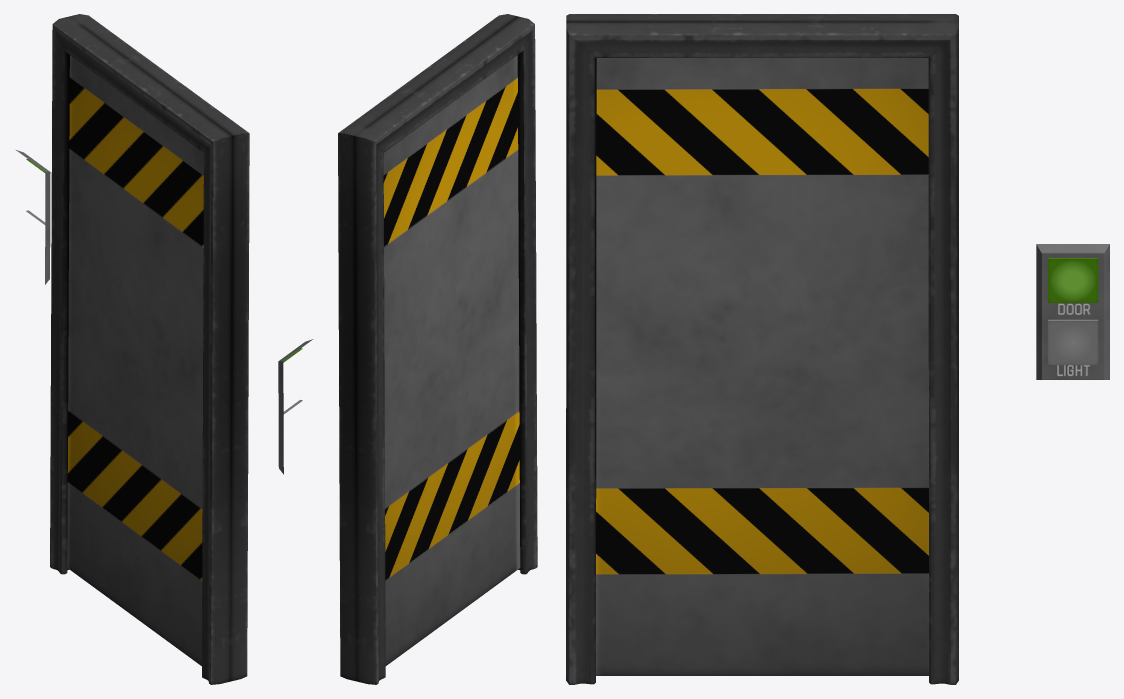
File: puerta.glb
The picture shows the model from 3 angles, left to right: view 1: azimuth 30°, elevation 25°; view 2: azimuth 150°, elevation 25°; view 3: azimuth 270°, elevation 25°; orthographic projection. The views are drawn at different scales.
Visible parts, largest first — view 1: Door_002_FloorsAndWalls_01_0, Door_Frame_002_FloorsAndWalls_02_0, Door_Panel_002_Props_Normal_02_0; view 2: Door_002_FloorsAndWalls_01_0, Door_Frame_002_FloorsAndWalls_02_0, Door_Panel_002_Props_Normal_02_0; view 3: Door_002_FloorsAndWalls_01_0, Door_Frame_002_FloorsAndWalls_02_0, Door_Panel_002_Props_Normal_02_0.
Boxes of the visible parts, x1,y1,x2,y2 form: Door_002_FloorsAndWalls_01_0: (67, 55, 203, 665); Door_Frame_002_FloorsAndWalls_02_0: (50, 14, 249, 684); Door_Panel_002_Props_Normal_02_0: (15, 149, 50, 284); Door_002_FloorsAndWalls_01_0: (383, 55, 520, 665); Door_Frame_002_FloorsAndWalls_02_0: (338, 14, 537, 684); Door_Panel_002_Props_Normal_02_0: (278, 339, 313, 474); Door_002_FloorsAndWalls_01_0: (596, 58, 928, 675); Door_Frame_002_FloorsAndWalls_02_0: (566, 14, 958, 684); Door_Panel_002_Props_Normal_02_0: (1036, 244, 1109, 379).
Size of the model in its own units: 0.1743 by 2.35 by 1.77.
3 materials, 3 textured.
